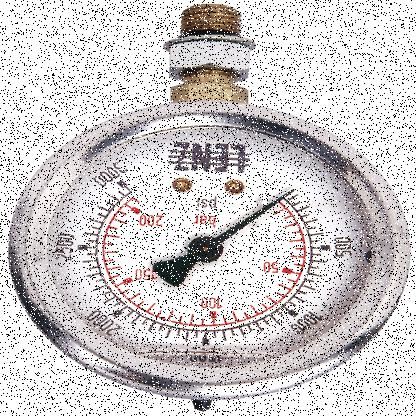needle: (215, 188, 295, 243)
